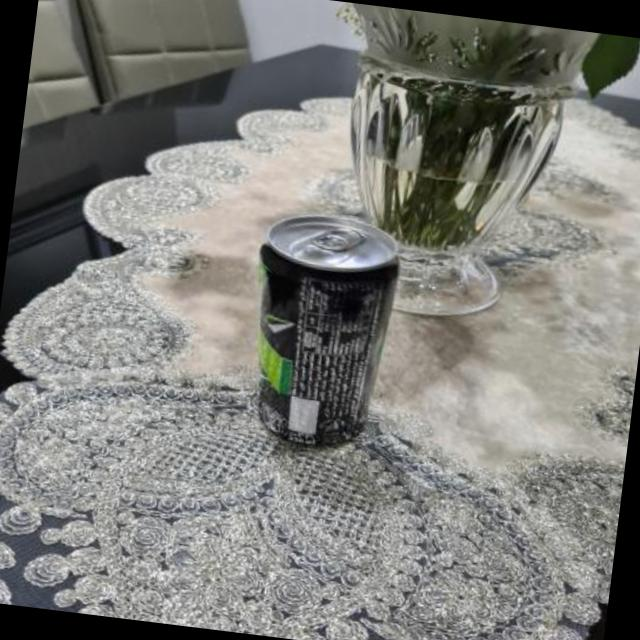metal: (255, 211, 395, 439)
